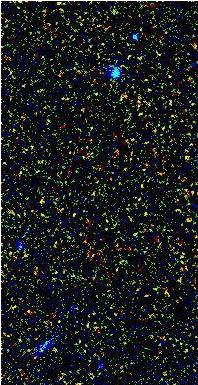star: (181, 32, 198, 62)
